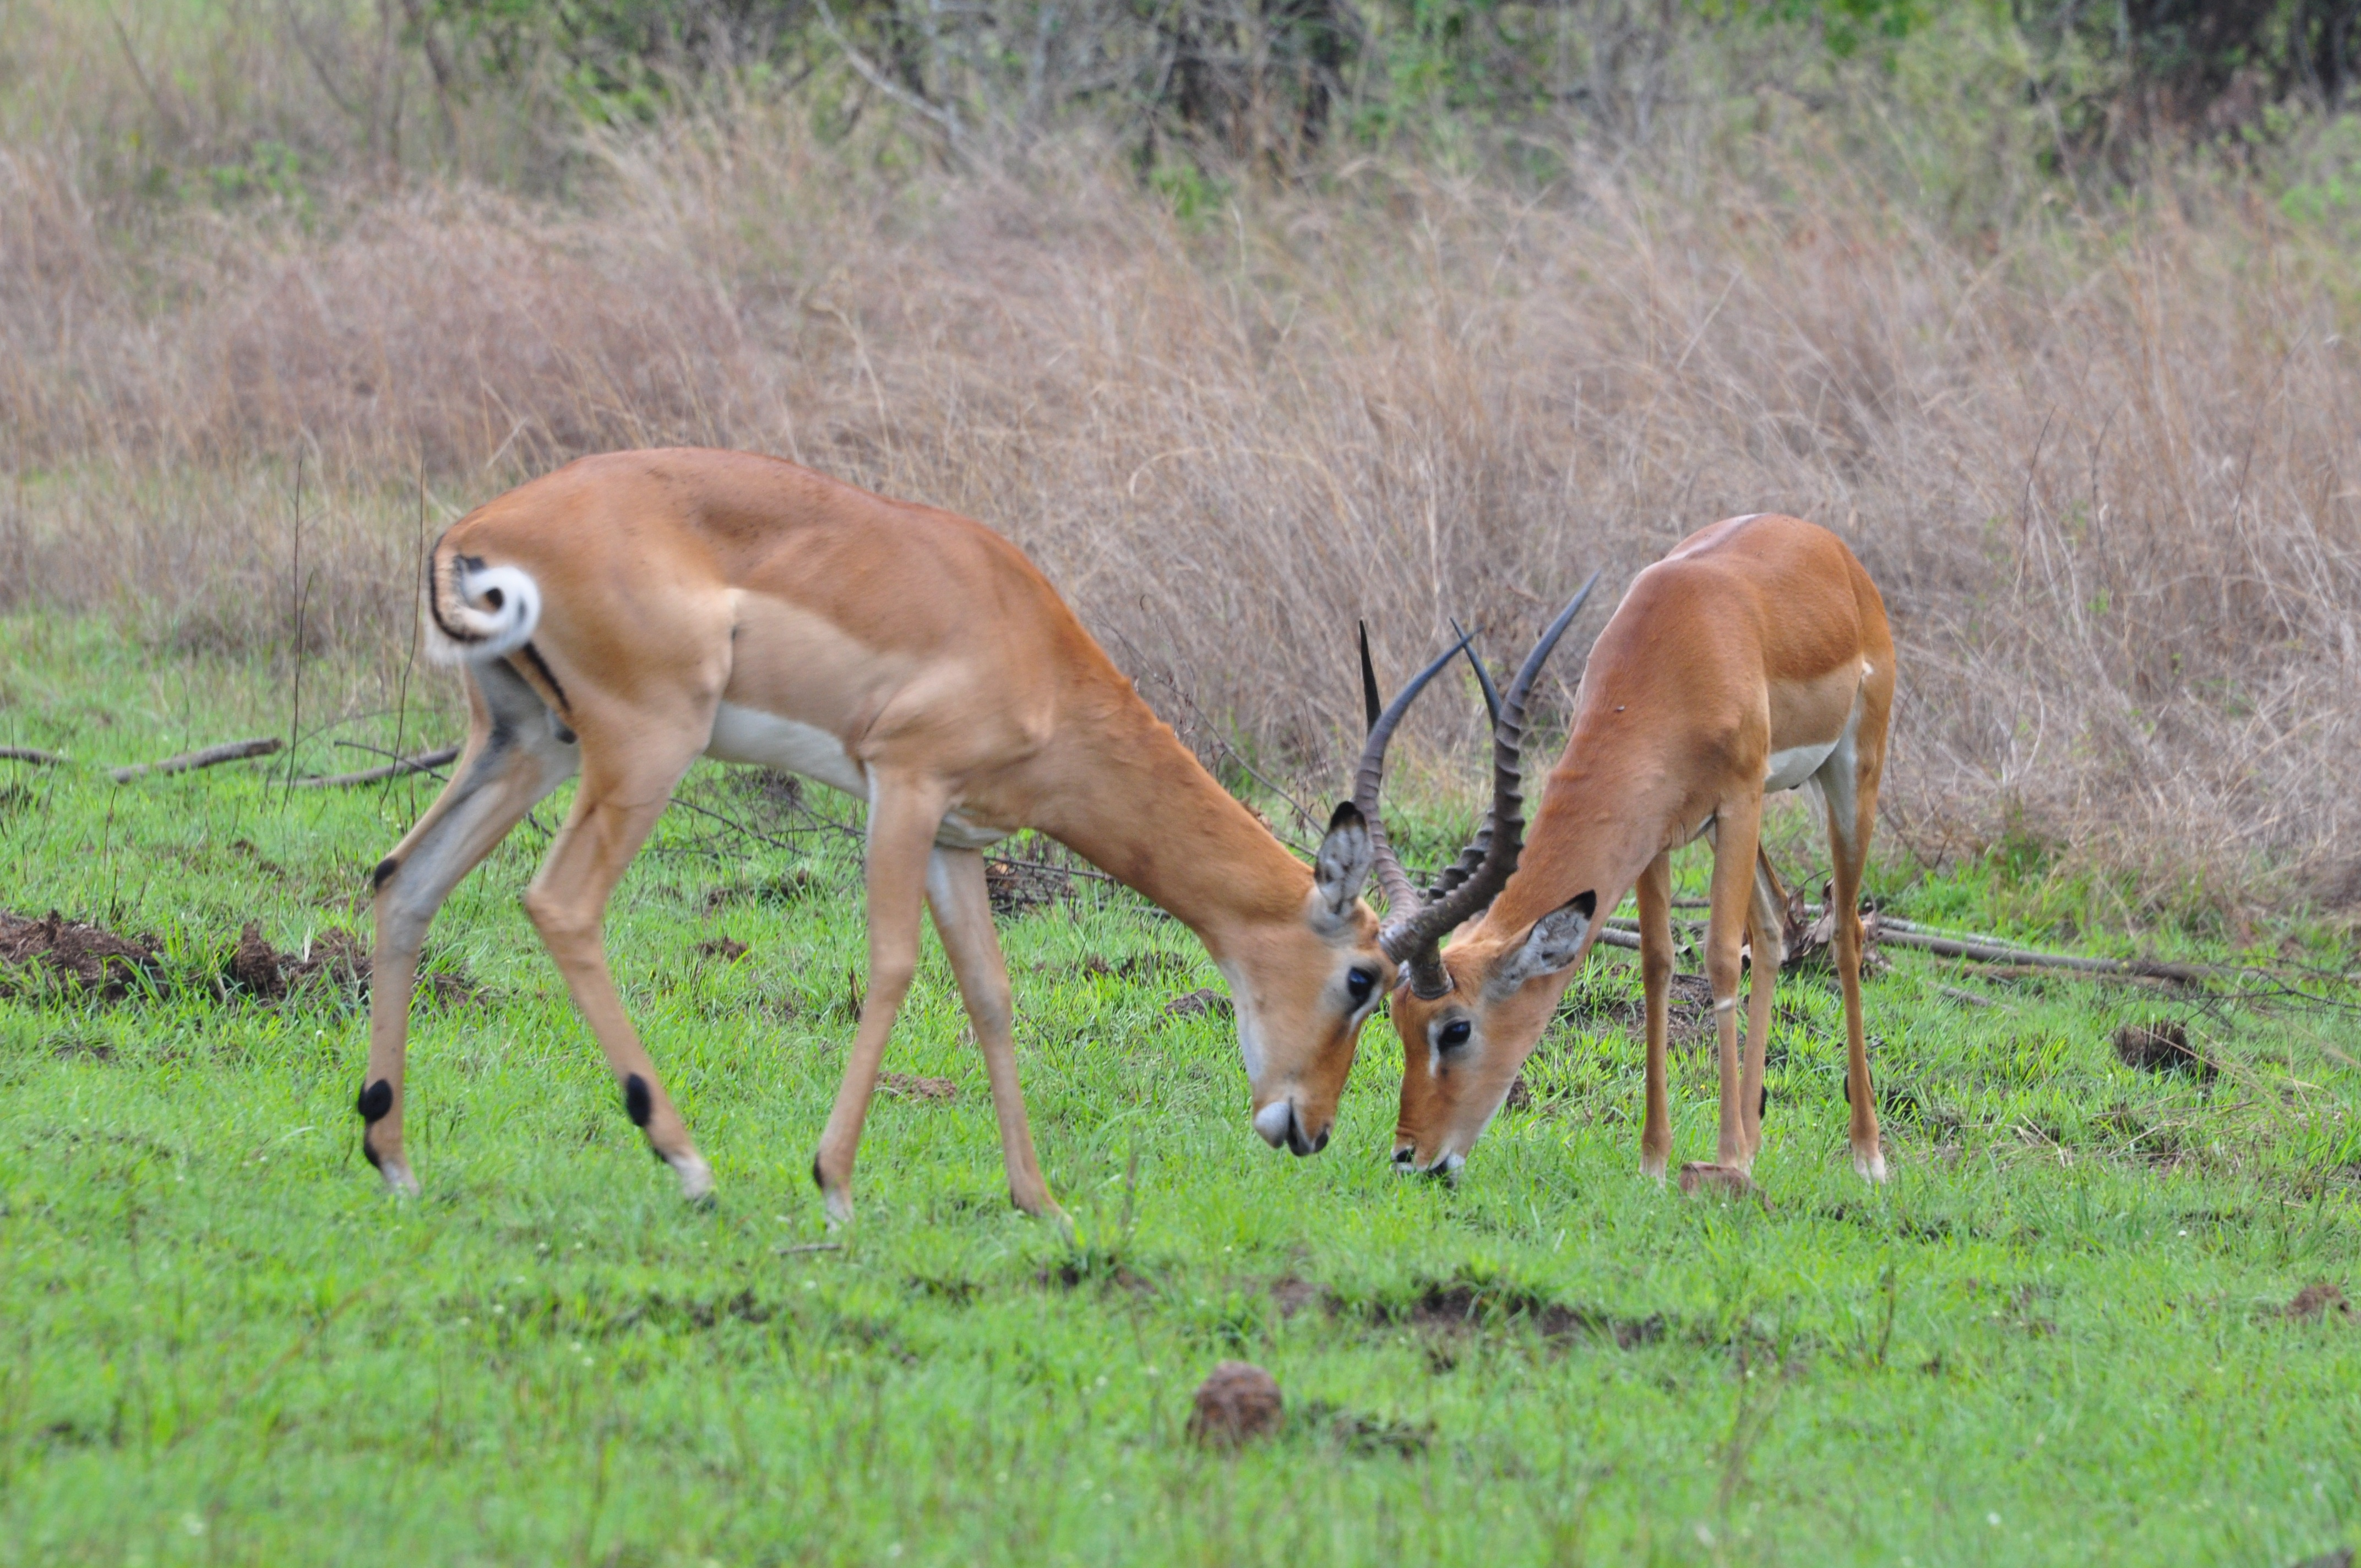impala: (341, 430, 1554, 1270), (1351, 497, 1904, 1225)
